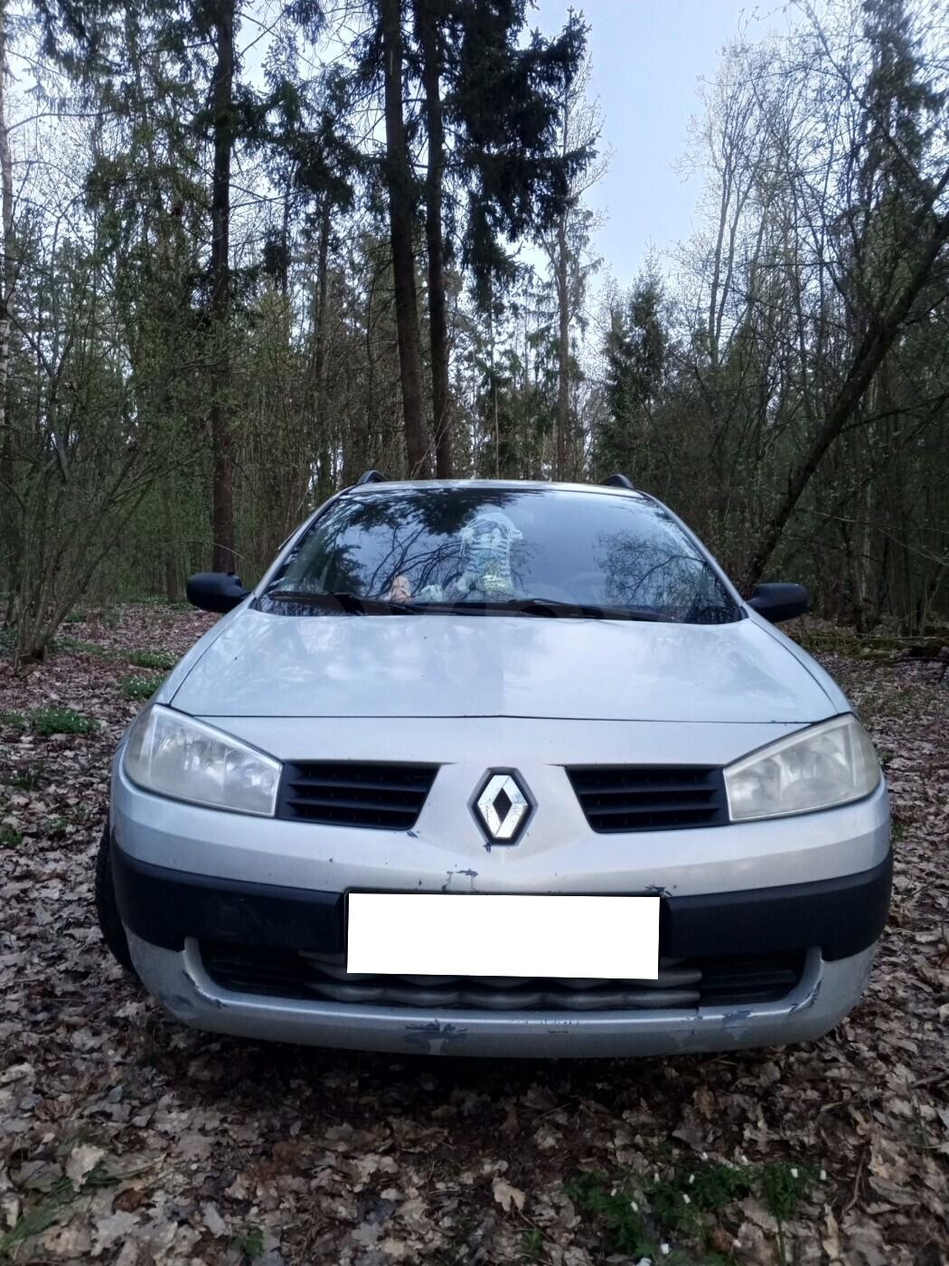Megane_2002-2006: (87, 472, 900, 1078)
